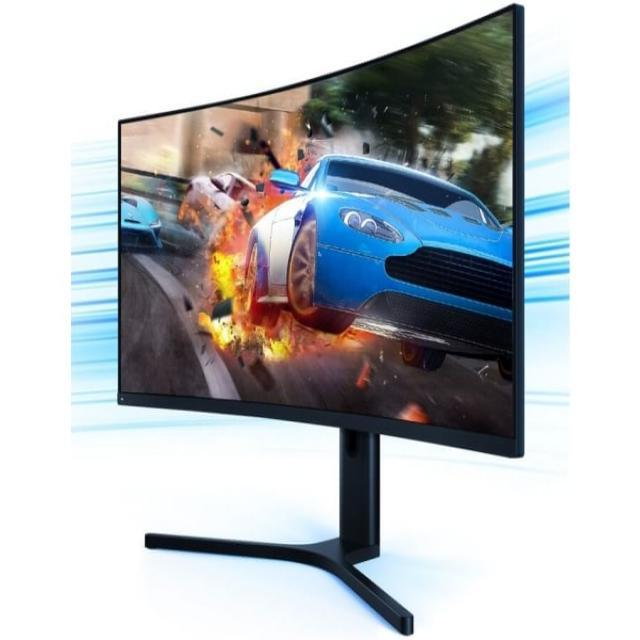monitor: (24, 6, 570, 640)
